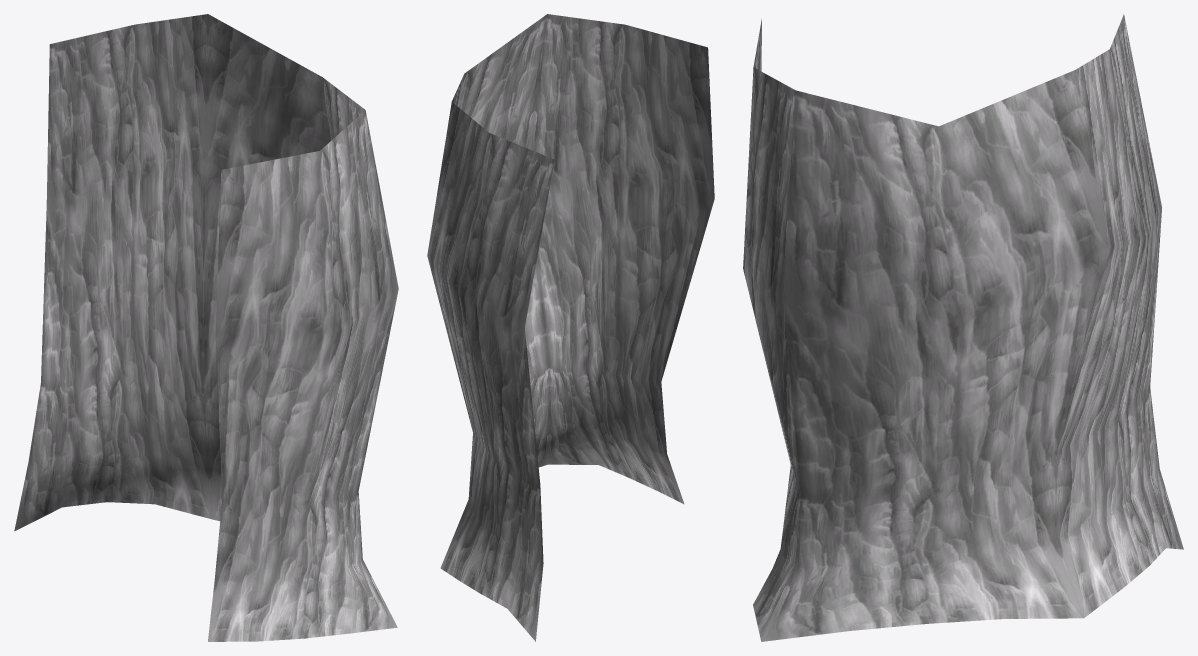
File: SWORDLIGHT20_PS-AREA03_63.fbx
3 views of the same model, side by side, from view 1: azimuth 30°, elevation 25°; view 2: azimuth 150°, elevation 25°; view 3: azimuth 270°, elevation 25° (orthographic). The views are drawn at different scales.
Visible parts, largest first — view 1: SWORDLIGHT20_PS-AREA03_63; view 2: SWORDLIGHT20_PS-AREA03_63; view 3: SWORDLIGHT20_PS-AREA03_63.
Part boxes in pixels (x1,y1,x2,y2): SWORDLIGHT20_PS-AREA03_63: (14,14,398,641); SWORDLIGHT20_PS-AREA03_63: (427,14,714,641); SWORDLIGHT20_PS-AREA03_63: (743,14,1183,641).
Size of the model in its own units: 69224 by 155392 by 112047.
Materials: 1 (1 with a texture image).
